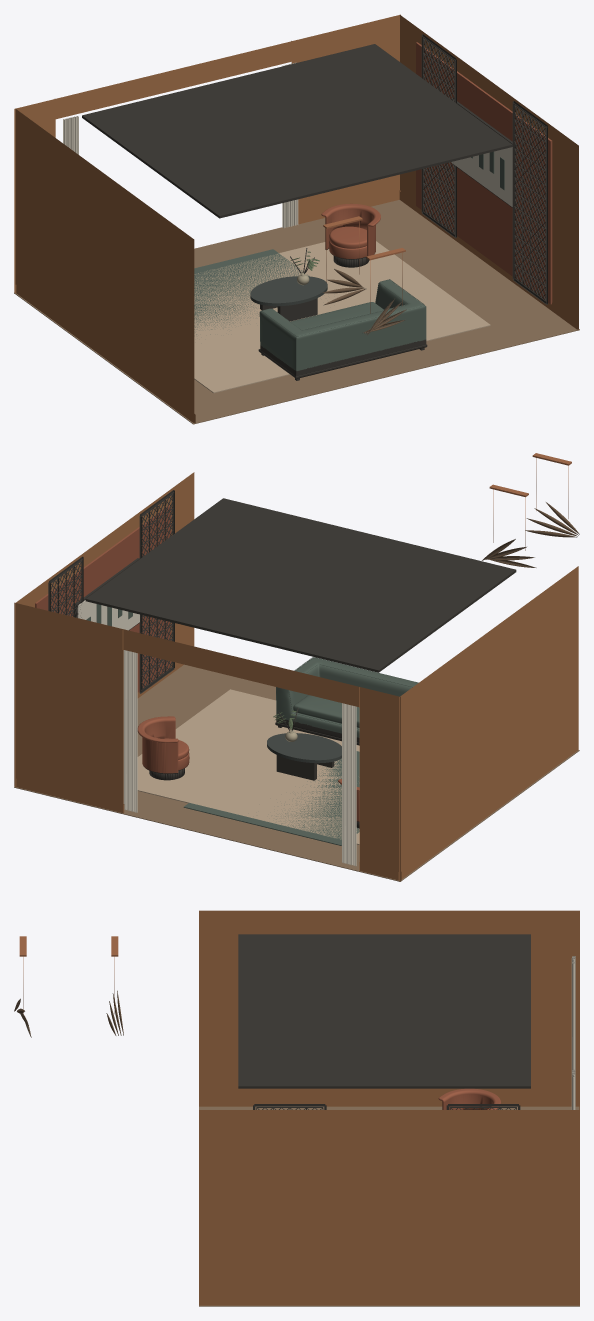
Rendered from great-1.glb.
The picture shows the model from 3 angles, top to bottom: view 1: azimuth 30°, elevation 25°; view 2: azimuth 150°, elevation 25°; view 3: azimuth 270°, elevation 25°; orthographic projection. The views are drawn at different scales.
Parts seen in each view (by area): view 1: DESIGN | great removable wall finish, DESIGN | Social ceiling field, DESIGN | great floor finish, DESIGN | Great room primary ground, DESIGN | Clay conversation wall, DESIGN | Great room sofa facing conversation, DESIGN | Kumiko | Great room vertical garden boundary, DESIGN | Secondary occupied textile field, DESIGN | Kumiko | Great room vertical garden boundary.001, DESIGN | Required Bellustar swivel chair one, DESIGN | Great room conversation table top, DESIGN | Textile artwork.001 (+2 smaller); view 2: DESIGN | great removable wall finish, DESIGN | Social ceiling field, DESIGN | Great room primary ground, DESIGN | great floor finish, DESIGN | Great room sofa facing conversation, DESIGN | Clay conversation wall, DESIGN | Secondary occupied textile field, DESIGN | Kumiko | Great room vertical garden boundary, DESIGN | Required Bellustar swivel chair one, DESIGN | Great room soft window edge, DESIGN | Great room soft window edge.001, DESIGN | Great room conversation table top (+5 smaller); view 3: DESIGN | great removable wall finish, DESIGN | Social ceiling field, DESIGN | great floor finish, DESIGN | Required Bellustar swivel chair two, DESIGN | Great room soft window edge.
Part boxes in pixels (box(x1,y1,x2,y2)): DESIGN | great removable wall finish: box(14, 14, 578, 423); DESIGN | Social ceiling field: box(82, 44, 512, 218); DESIGN | great floor finish: box(14, 200, 579, 424); DESIGN | Great room primary ground: box(194, 241, 490, 393); DESIGN | Clay conversation wall: box(416, 42, 552, 304); DESIGN | Great room sofa facing conversation: box(258, 279, 427, 380); DESIGN | Kumiko | Great room vertical garden boundary: box(512, 101, 547, 304); DESIGN | Secondary occupied textile field: box(194, 249, 308, 334); DESIGN | Kumiko | Great room vertical garden boundary.001: box(421, 34, 456, 238); DESIGN | Required Bellustar swivel chair one: box(321, 203, 380, 267); DESIGN | Great room conversation table top: box(250, 276, 327, 306); DESIGN | Textile artwork.001: box(451, 147, 512, 206); DESIGN | great removable wall finish: box(14, 472, 578, 880); DESIGN | Social ceiling field: box(85, 498, 516, 672); DESIGN | Great room primary ground: box(137, 689, 359, 844); DESIGN | great floor finish: box(14, 664, 579, 881); DESIGN | Great room sofa facing conversation: box(275, 657, 418, 745); DESIGN | Clay conversation wall: box(35, 505, 171, 692); DESIGN | Secondary occupied textile field: box(183, 751, 359, 845); DESIGN | Kumiko | Great room vertical garden boundary: box(139, 490, 174, 693); DESIGN | Required Bellustar swivel chair one: box(137, 716, 189, 780); DESIGN | Great room soft window edge: box(342, 703, 356, 866); DESIGN | Great room soft window edge.001: box(123, 650, 137, 812); DESIGN | Great room conversation table top: box(267, 733, 341, 763); DESIGN | great removable wall finish: box(199, 910, 579, 1305); DESIGN | Social ceiling field: box(238, 934, 530, 1088); DESIGN | great floor finish: box(199, 1106, 579, 1306); DESIGN | Required Bellustar swivel chair two: box(438, 1088, 500, 1109); DESIGN | Great room soft window edge: box(571, 956, 575, 1070).
Bounding box in the file's own units: 6 × 3.04 × 7.16.
